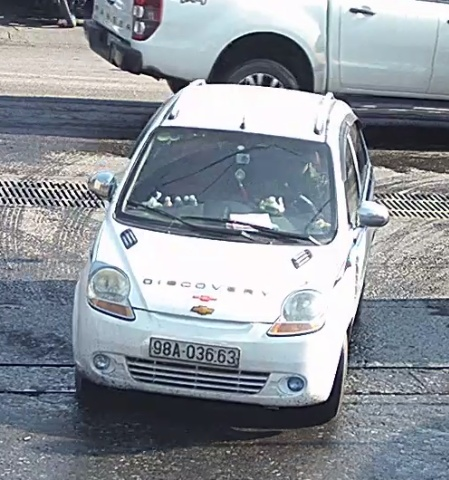vehicle plate: (144, 335, 249, 373)
